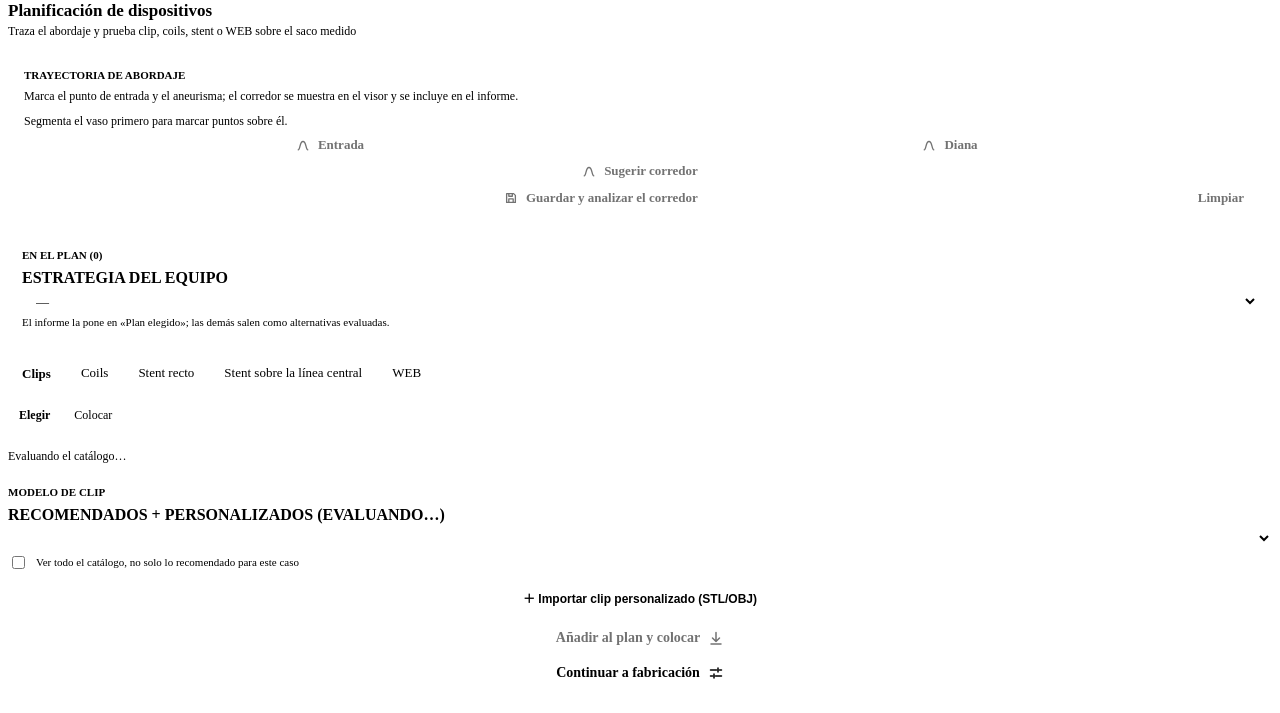
Scenario: stent sobre la línea central (F1-208) › el Ø del vaso dice que es la media del tramo cubierto
Click the button "Stent sobre la línea central": (293, 374) left=210, top=356, right=376, bottom=390
(page scrolled)
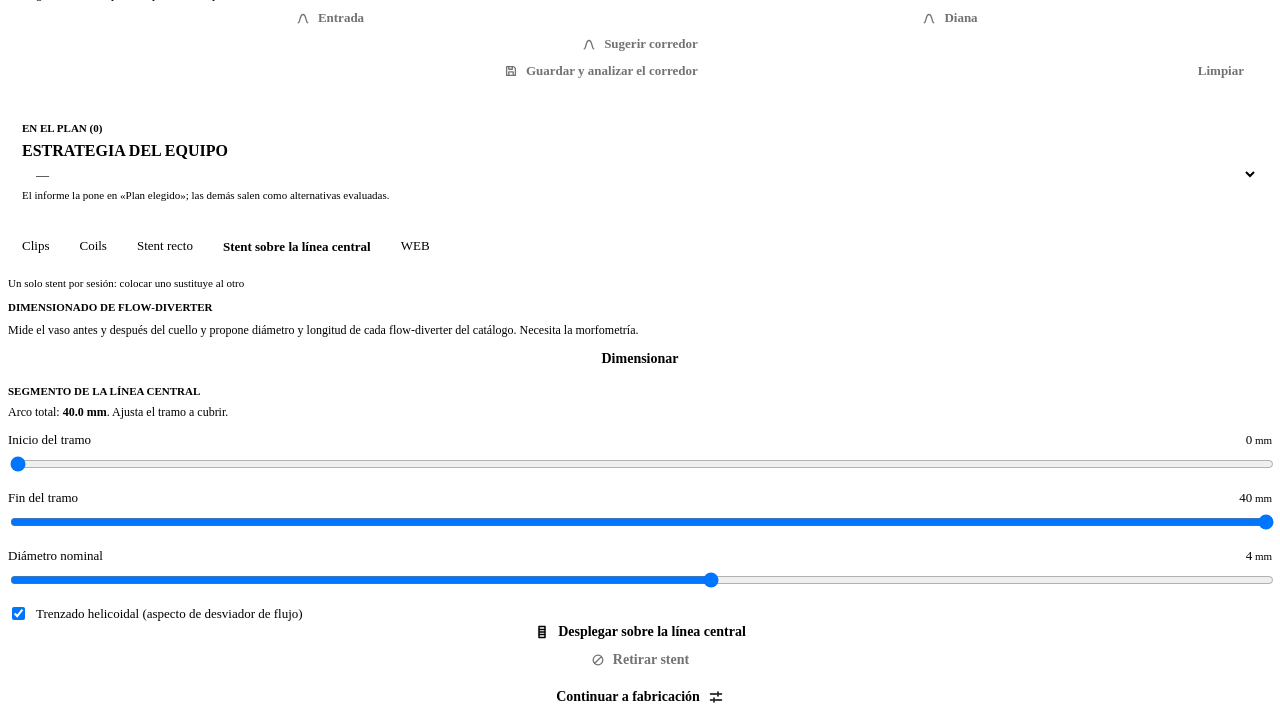
Click the button "Desplegar sobre la línea central": (640, 632) left=8, top=623, right=1272, bottom=641
(page scrolled)
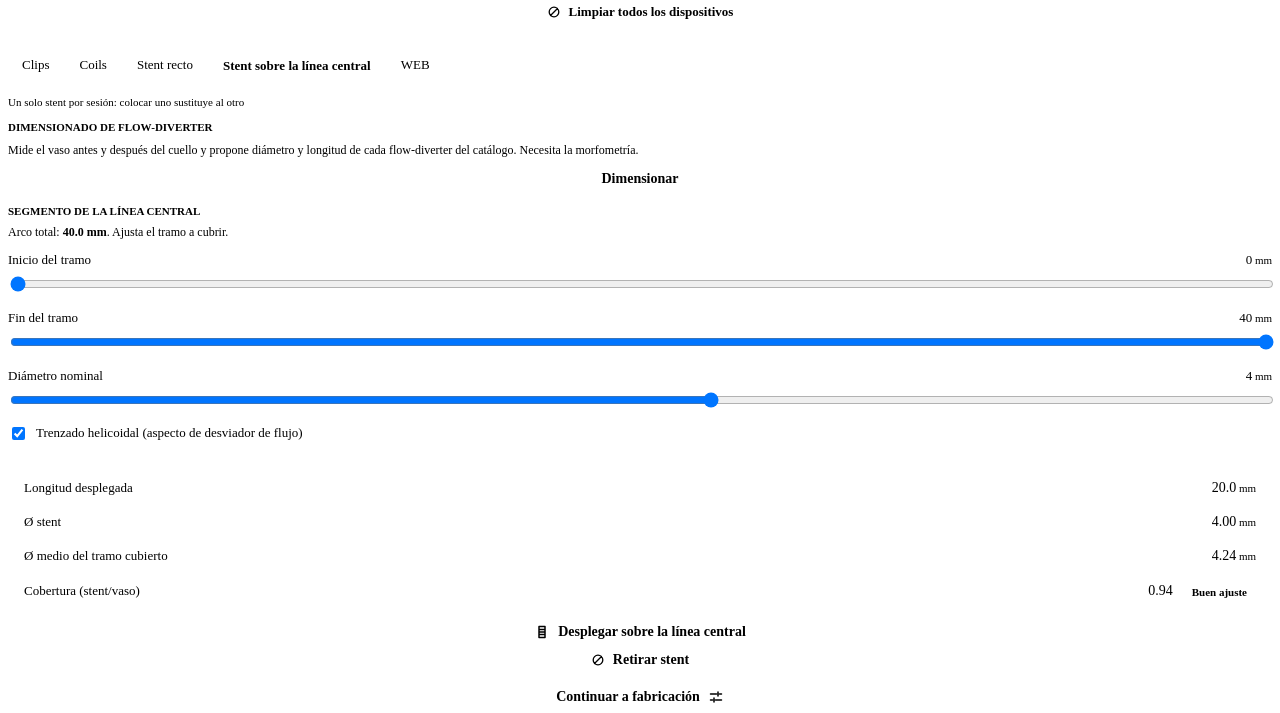
Expected: the text "Ø medio del tramo cubierto" is shown, left=24, top=548, right=168, bottom=564
